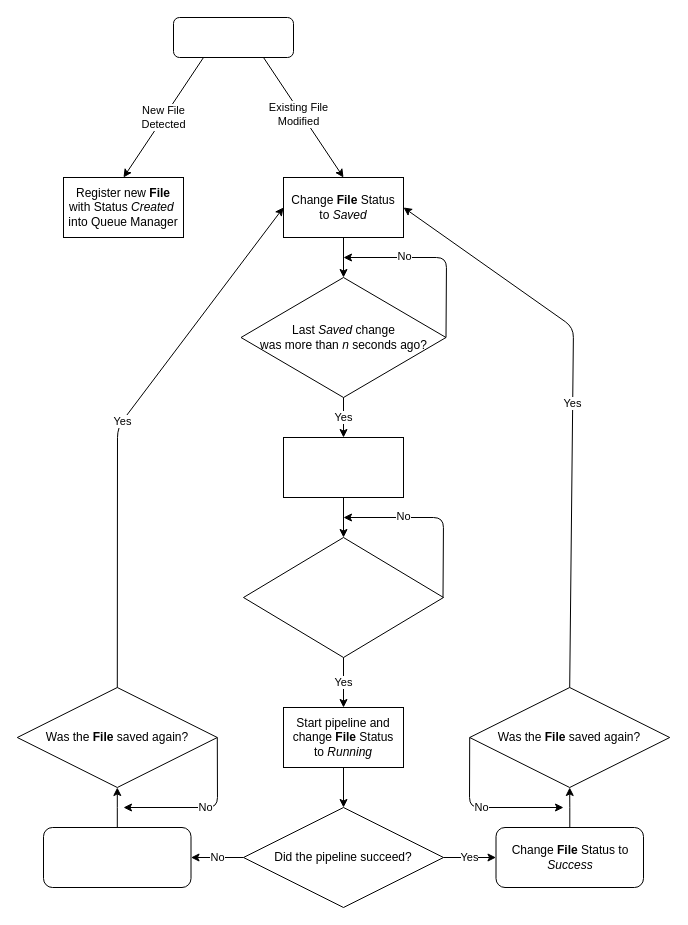
This 688x925 diagram has some shape labels left out. Each missing label, with the centre of its shape:
"Change File Status to Failure" goes at (x=116, y=857).
"Change File Status to Queued" goes at (x=343, y=467).
"Engine" goes at (x=233, y=37).
"Resources available to run pipeline for File?" goes at (x=343, y=597).
